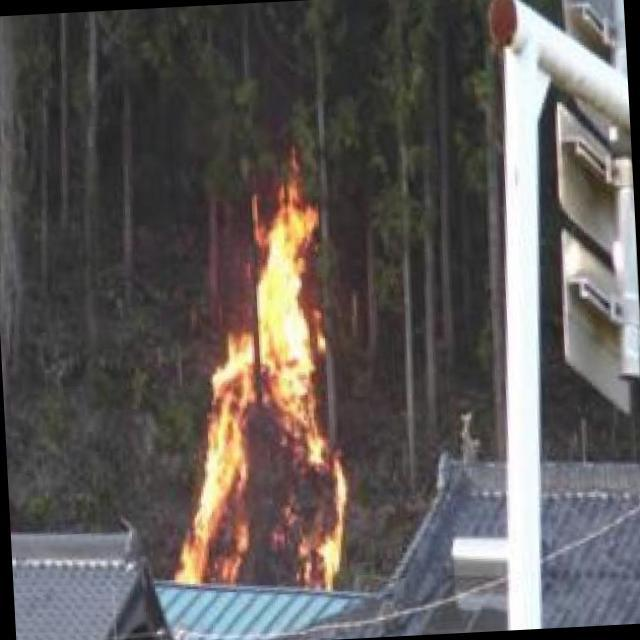Fire: (163, 210, 353, 600)
